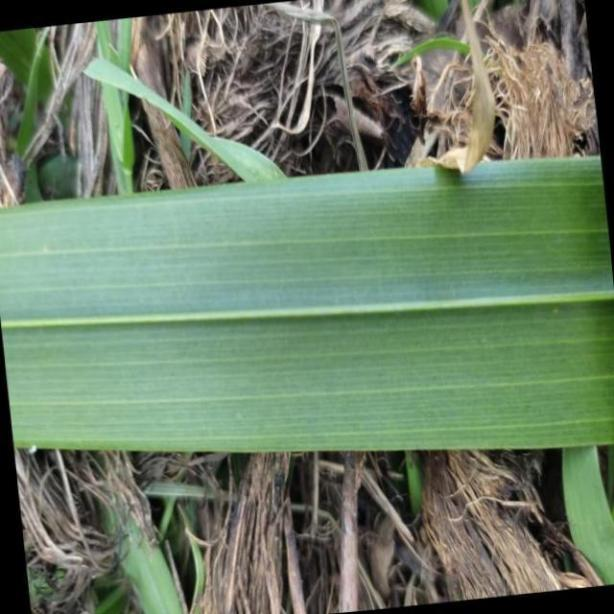Healthy: (1, 153, 614, 452)
